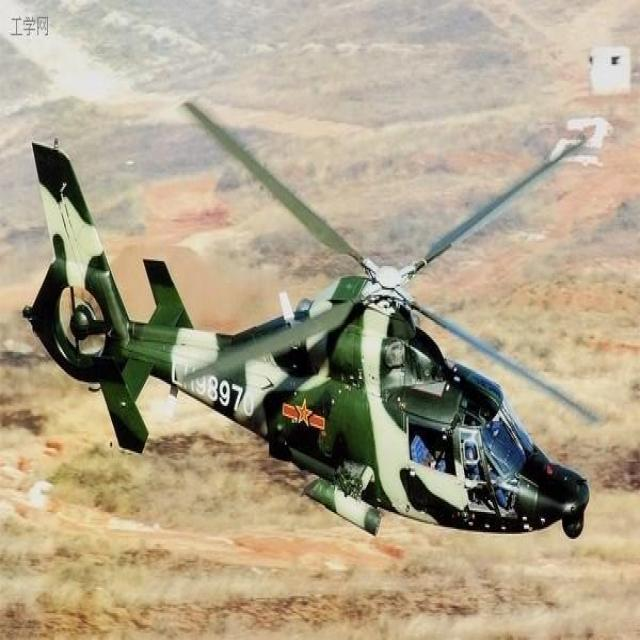MIL_HELO: (21, 92, 640, 562)
